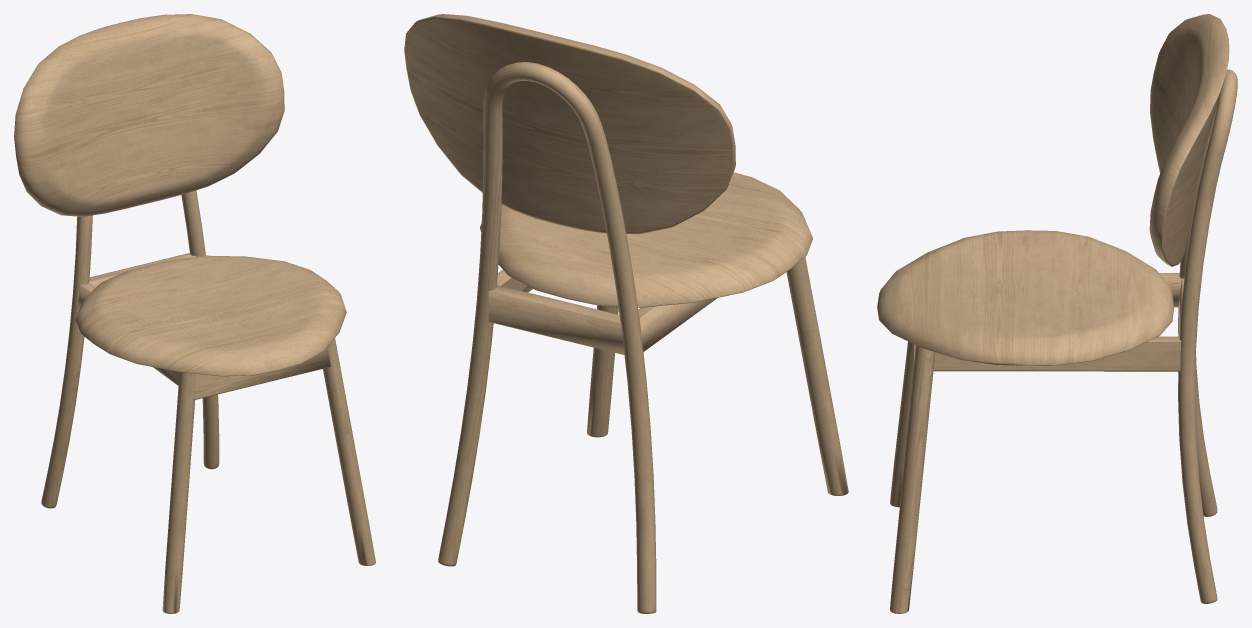
Rendered from dining_room_chair.glb.
3 views of the same model, side by side, from view 1: azimuth 30°, elevation 25°; view 2: azimuth 150°, elevation 25°; view 3: azimuth 270°, elevation 25° (orthographic). The views are drawn at different scales.
Visible parts, largest first — view 1: Dining Room Chair_FUNITURE_027_MAT_0; view 2: Dining Room Chair_FUNITURE_027_MAT_0; view 3: Dining Room Chair_FUNITURE_027_MAT_0.
Boxes of the visible parts, <box> form: Dining Room Chair_FUNITURE_027_MAT_0: <box>14,14,375,613</box>; Dining Room Chair_FUNITURE_027_MAT_0: <box>404,14,848,613</box>; Dining Room Chair_FUNITURE_027_MAT_0: <box>877,14,1237,613</box>.
Bounding box in the file's own units: 0.5265 × 0.8601 × 0.5525.
Materials: 1 (1 with a texture image).
